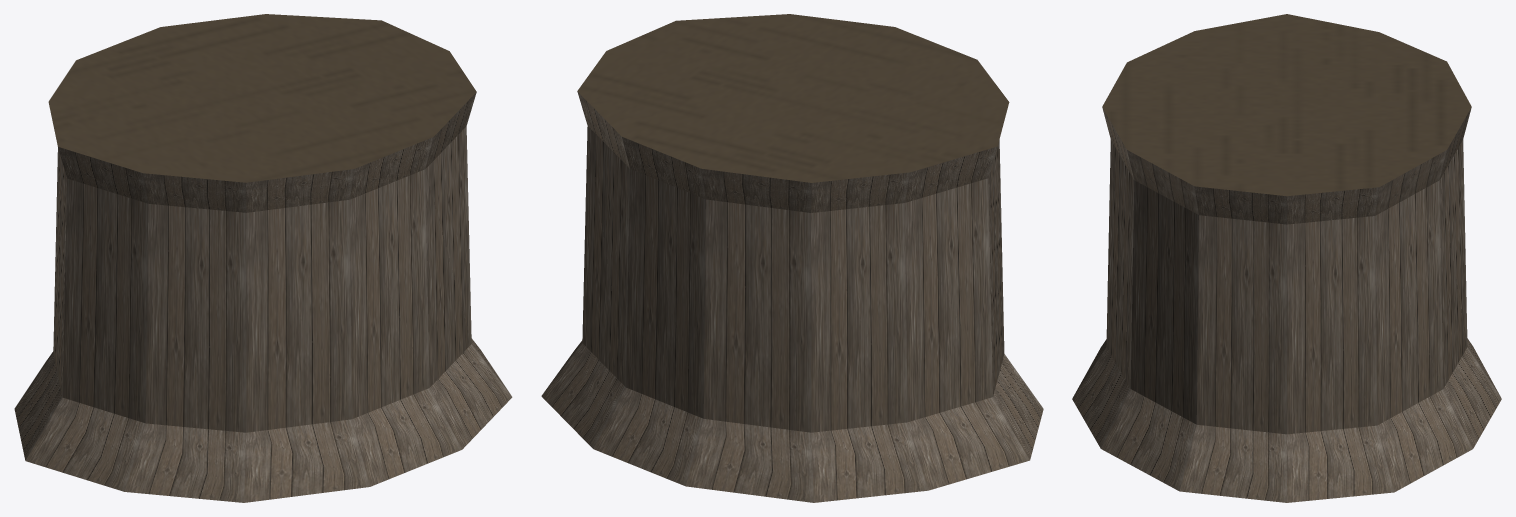
Rendered from showcase_stump_seat.glb.
3 renders of one model, left to right at view 1: azimuth 30°, elevation 25°; view 2: azimuth 150°, elevation 25°; view 3: azimuth 270°, elevation 25°, orthographic. The views are drawn at different scales.
Parts seen in each view (by area): view 1: outdoor_showcase_stump_seat; view 2: outdoor_showcase_stump_seat; view 3: outdoor_showcase_stump_seat.
Boxes of the visible parts, bbox=[...] form: outdoor_showcase_stump_seat: bbox=[14, 14, 512, 502]; outdoor_showcase_stump_seat: bbox=[541, 14, 1043, 502]; outdoor_showcase_stump_seat: bbox=[1072, 14, 1501, 502].
Bounding box in the file's own units: 0.7 × 0.45 × 0.6.
1 material, 1 textured.
